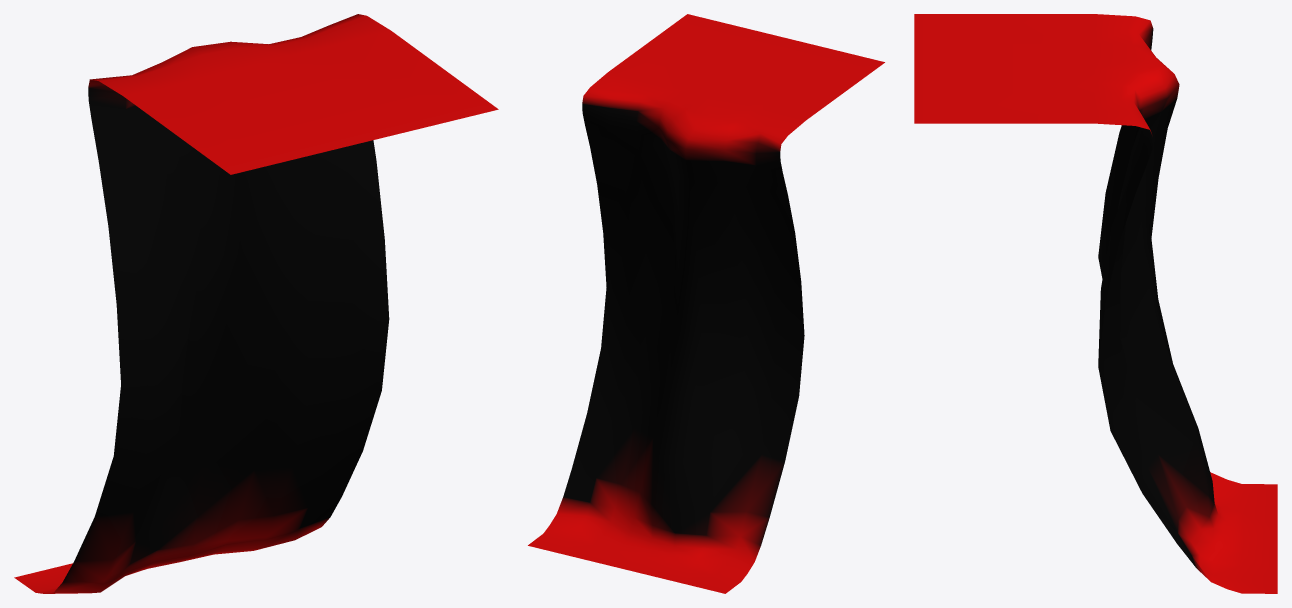
Rendered from GroundCliff00B 2M Background.fbx.
3 renders of one model, left to right at view 1: azimuth 30°, elevation 25°; view 2: azimuth 150°, elevation 25°; view 3: azimuth 270°, elevation 25°, orthographic. The views are drawn at different scales.
Visible parts, largest first — view 1: GroundCliff00B 2M Background; view 2: GroundCliff00B 2M Background; view 3: GroundCliff00B 2M Background.
Boxes of the visible parts, x1=… form: GroundCliff00B 2M Background: x1=14, y1=14, x2=498, y2=593; GroundCliff00B 2M Background: x1=528, y1=14, x2=884, y2=593; GroundCliff00B 2M Background: x1=914, y1=14, x2=1277, y2=593.
Bounding box in the file's own units: 1 × 2 × 1.4.
